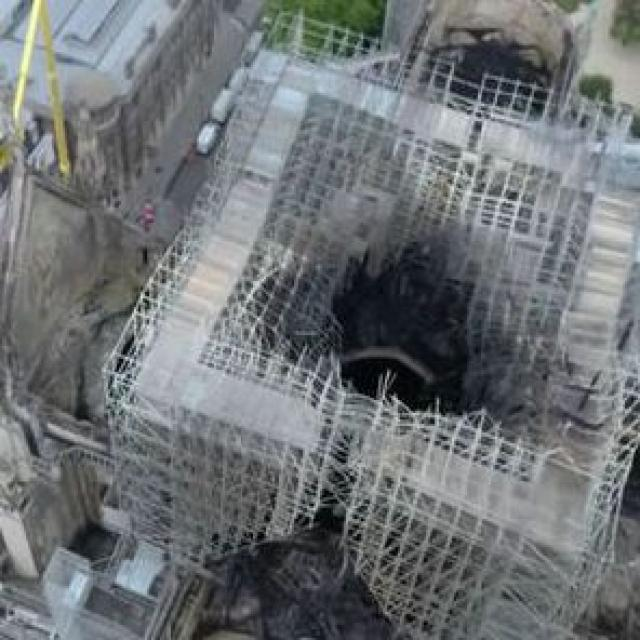collapsed_building: (102, 34, 638, 594)
